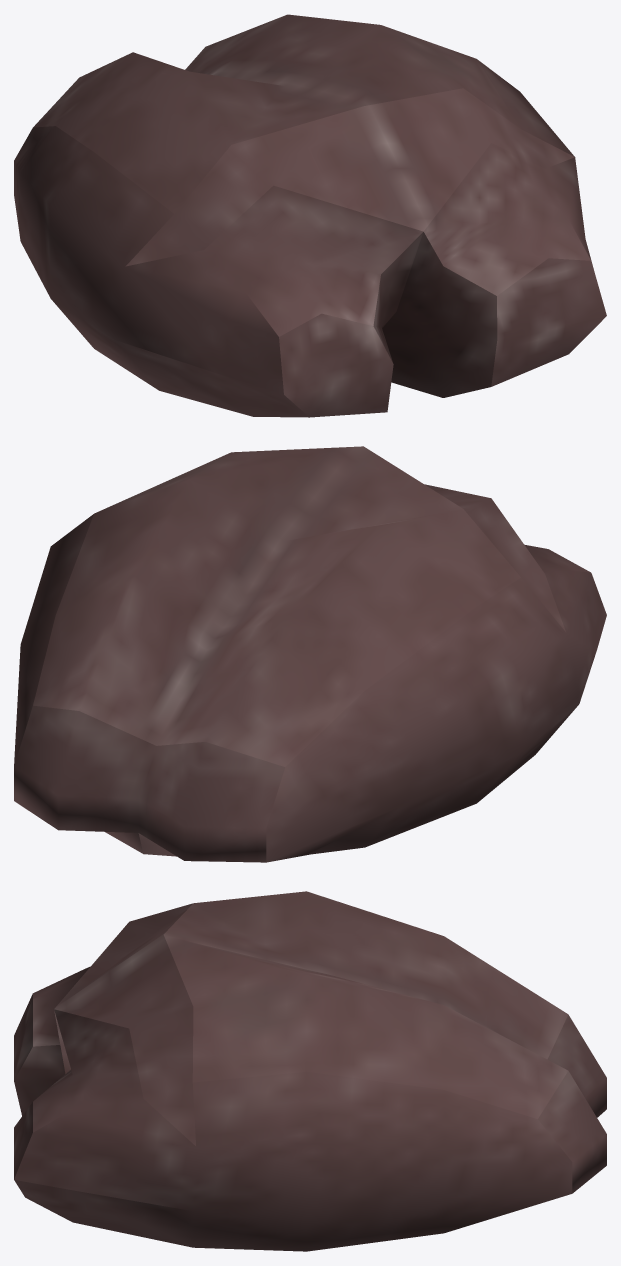
The model's file is doveMeat.fbx.
The picture shows the model from 3 angles, top to bottom: view 1: azimuth 30°, elevation 25°; view 2: azimuth 150°, elevation 25°; view 3: azimuth 270°, elevation 25°; orthographic projection. The views are drawn at different scales.
Visible parts, largest first — view 1: pCube71; view 2: pCube71; view 3: pCube71.
Boxes of the visible parts, x1,y1,x2,y2 form: pCube71: [14, 14, 606, 417]; pCube71: [14, 446, 606, 862]; pCube71: [14, 891, 606, 1251].
Bounding box in the file's own units: 93.75 × 54.53 × 112.
